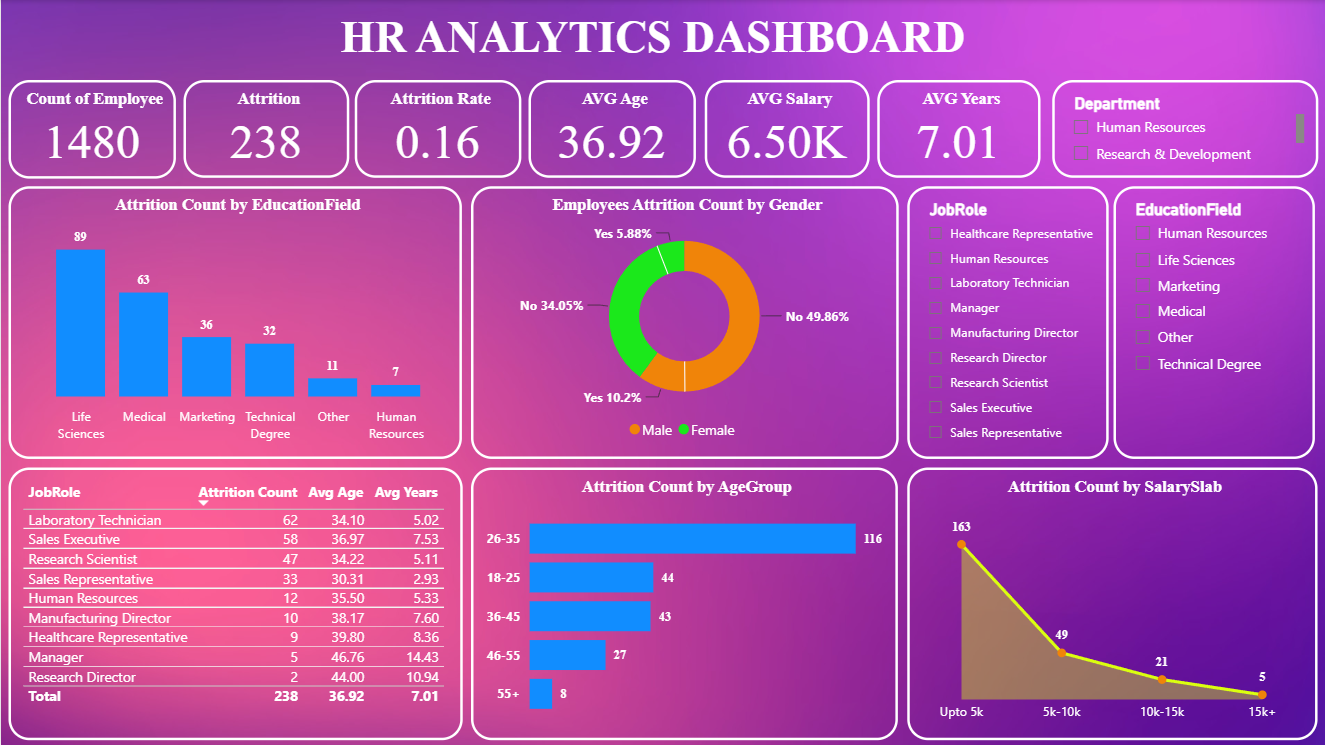

The dashboard page shown, as its layout file describes it:
{"tool":"powerbi","page":{"name":"Page 1","canvas":[1280,720],"ordinal":0},"visuals":[{"type":"textbox","box":[0,6.4,1258.2,62.7],"z":0},{"type":"card","title":"Count of  Employee","fields":{"Values":["HR_Analytics.Total Employees"]},"box":[6.7,76.7,161.7,95],"z":1000},{"type":"card","title":"Attrition","fields":{"Values":["HR_Analytics.Attrition Count"]},"box":[175.8,77.5,160,94.2],"z":2000},{"type":"card","title":"AVG Years","fields":{"Values":["HR_Analytics.Avg Years"]},"box":[845.8,77.5,157.5,94.2],"z":3000},{"type":"card","title":"AVG Salary","fields":{"Values":["HR_Analytics.Avg Salary"]},"box":[679.2,77.5,159.2,94.2],"z":4000},{"type":"card","title":"Attrition Rate","fields":{"Values":["HR_Analytics.Attrition Rate"]},"box":[341.7,77.5,160.8,94.2],"z":5000},{"type":"card","title":" AVG Age","fields":{"Values":["HR_Analytics.Avg Age"]},"box":[509.2,77.5,161.7,94.2],"z":6000},{"type":"columnChart","fields":{"Category":["HR_Analytics.EducationField"],"Y":["HR_Analytics.Attrition Count"]},"box":[6.7,180,437.5,263.3],"z":7000},{"type":"donutChart","title":"Employees Attrition Count by Gender","fields":{"Category":["HR_Analytics.Gender"],"Series":["HR_Analytics.Attrition"],"Y":["HR_Analytics.Total Employees"]},"box":[453.3,180,412.5,263.3],"z":8000},{"type":"clusteredBarChart","fields":{"Category":["HR_Analytics.AgeGroup"],"Y":["HR_Analytics.Attrition Count"]},"box":[454.2,450.8,411.7,263.3],"z":9000},{"type":"areaChart","fields":{"Category":["HR_Analytics.SalarySlab"],"Y":["HR_Analytics.Attrition Count"]},"box":[875,450.8,395.8,263.3],"z":10000},{"type":"tableEx","fields":{"Values":["HR_Analytics.JobRole","HR_Analytics.Attrition Count","HR_Analytics.Avg Age","HR_Analytics.Avg Years"]},"box":[7,451,438,263],"z":11000},{"type":"slicer","fields":{"Values":["HR_Analytics.Department"]},"box":[1014.2,77.5,256.7,94.2],"z":12000},{"type":"slicer","fields":{"Values":["HR_Analytics.JobRole"]},"box":[875,180,194.2,263.3],"z":13000},{"type":"slicer","fields":{"Values":["HR_Analytics.EducationField"]},"box":[1074.2,180,194.2,263.3],"z":14000}]}

Visuals, with their boxes in screenshot pixels (x1, y1, x2, y2), scaled from the page's 1280x720 canvas onto the 1325x745 screenshot:
textbox: select_region(0, 7, 1302, 71)
"Count of  Employee" card: select_region(7, 79, 174, 178)
"Attrition" card: select_region(182, 80, 348, 178)
"AVG Years" card: select_region(876, 80, 1039, 178)
"AVG Salary" card: select_region(703, 80, 868, 178)
"Attrition Rate" card: select_region(354, 80, 520, 178)
" AVG Age" card: select_region(527, 80, 694, 178)
columnChart - HR_Analytics.EducationField x HR_Analytics.Attrition Count: select_region(7, 186, 460, 459)
"Employees Attrition Count by Gender" donutChart: select_region(469, 186, 896, 459)
clusteredBarChart - HR_Analytics.AgeGroup x HR_Analytics.Attrition Count: select_region(470, 466, 896, 739)
areaChart - HR_Analytics.SalarySlab x HR_Analytics.Attrition Count: select_region(906, 466, 1315, 739)
tableEx - HR_Analytics.JobRole x HR_Analytics.Attrition Count: select_region(7, 467, 461, 739)
slicer - HR_Analytics.Department: select_region(1050, 80, 1316, 178)
slicer - HR_Analytics.JobRole: select_region(906, 186, 1107, 459)
slicer - HR_Analytics.EducationField: select_region(1112, 186, 1313, 459)
